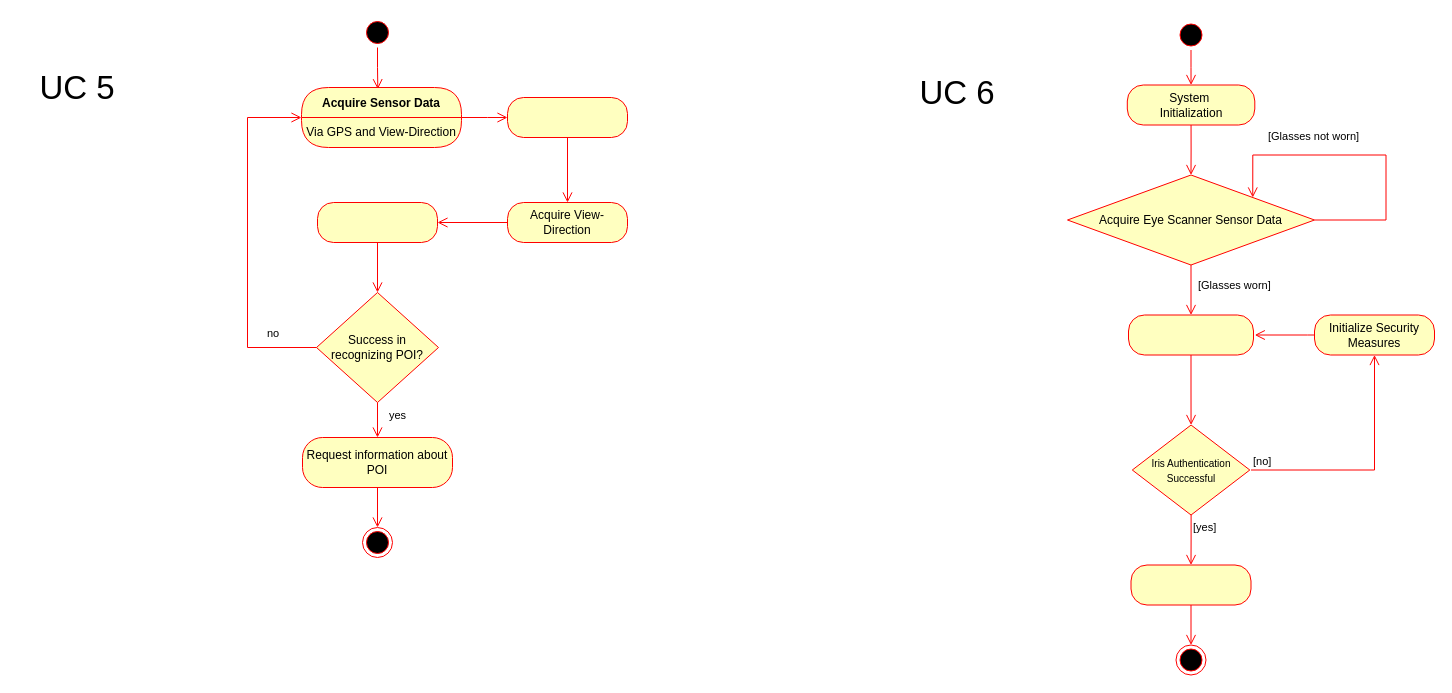
Some shapes in this 1452 by 693 pixel diagram are drawn without their labels. The centre of each missing label's shape, as x and y in pixels:
Acquire GPS: the point at 567,117
Grant User Access: the point at 1190,584
Merge Sensor Data: the point at 377,222
Scan Iris: the point at 1191,334
